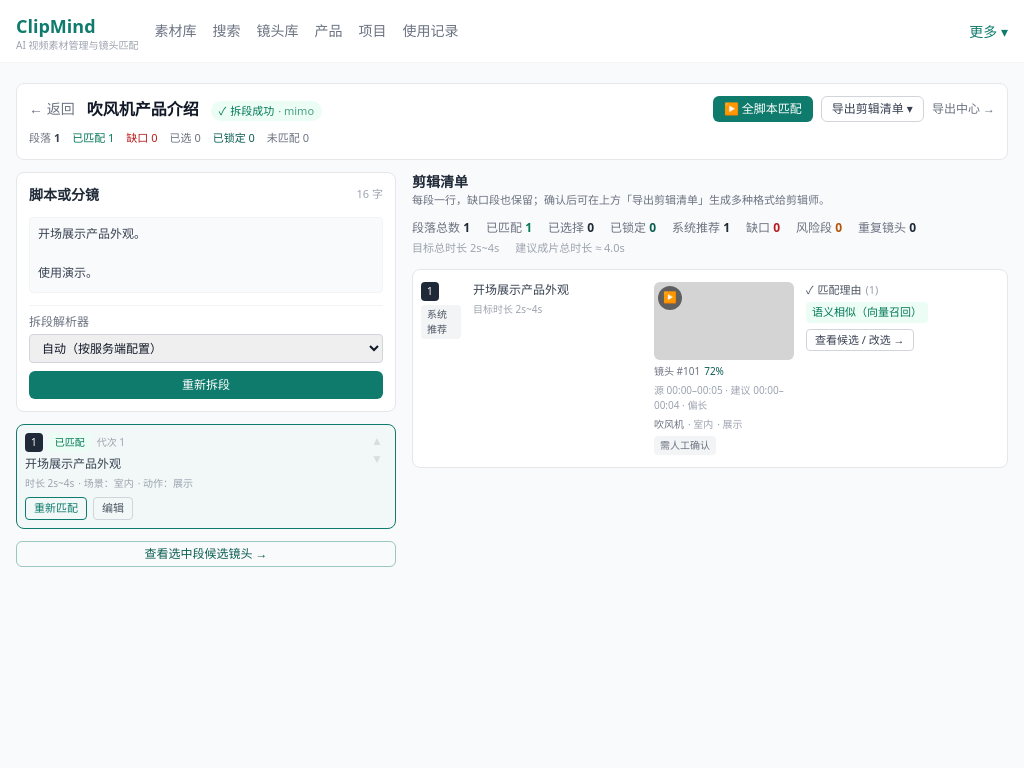
ScriptWorkbench › 导出剪辑清单为单一入口（点开才显示格式）
Click the button with test id "toggle-export". click: (872, 109)
box: [821,96,924,122]
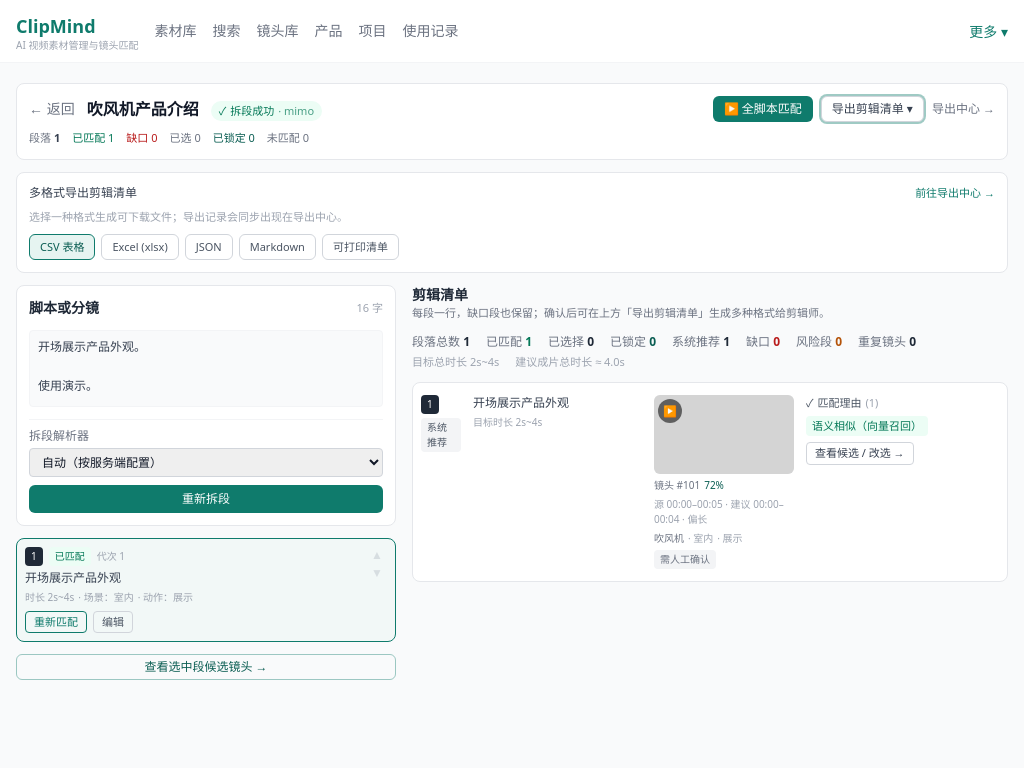
Expected: the element with test id "multi-export-panel" is shown, [16,172,1008,273]
